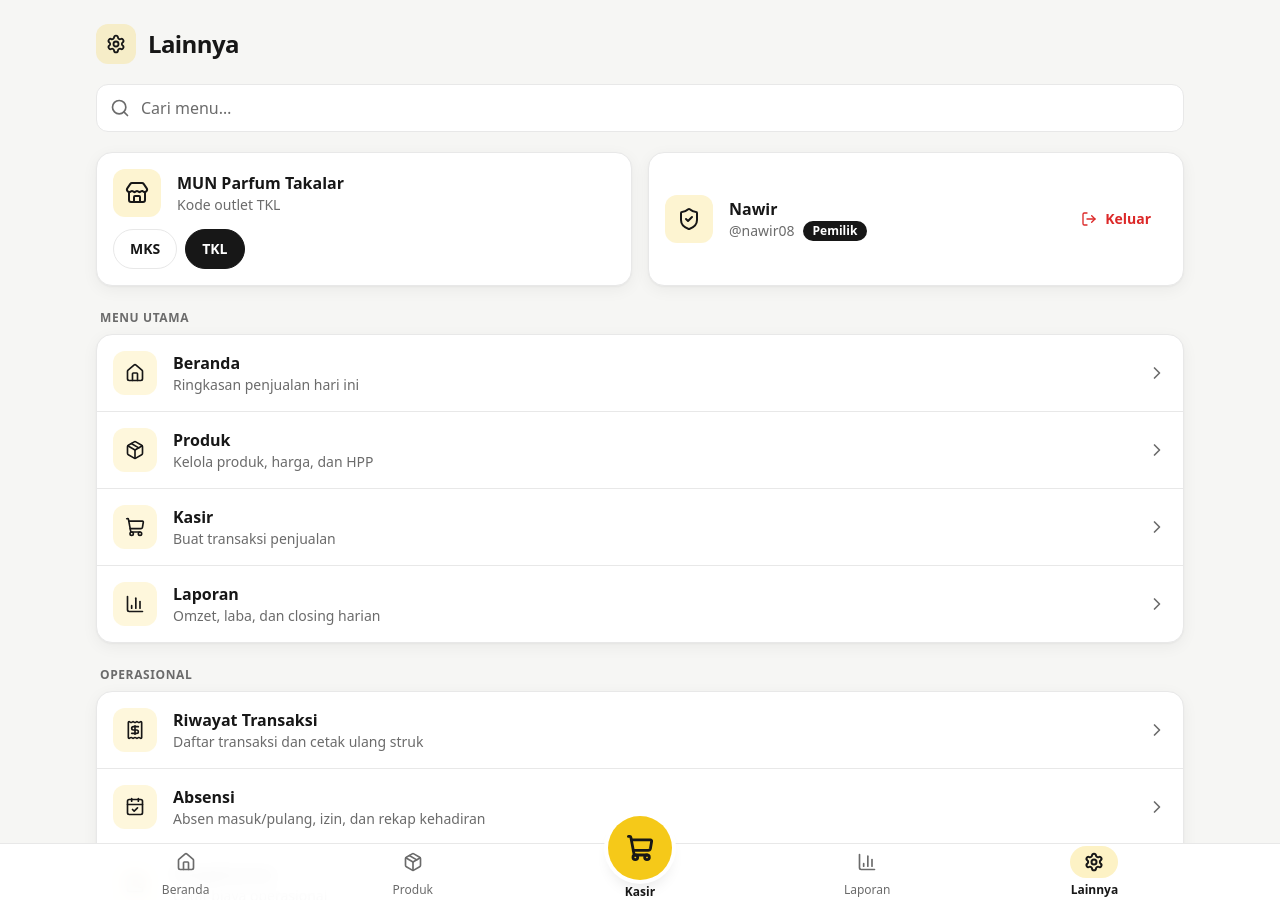
App shell › menu Lainnya dapat dicari
This screenshot has width=1280, height=900.
In the field labelled "Cari menu": (640, 108) [96,84,1184,132], type "pengel"
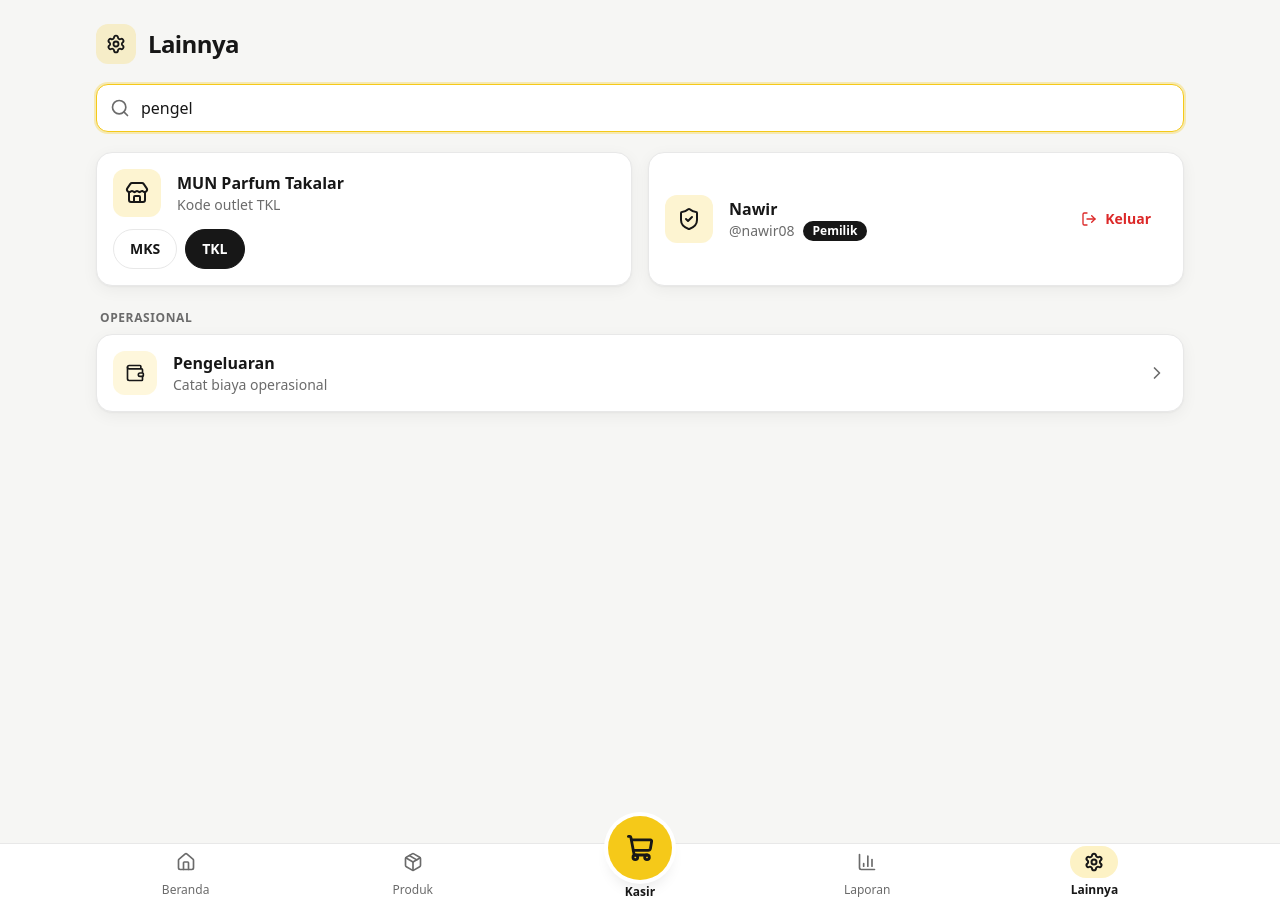
Expected: the text "Pengeluaran" is shown, [173,352,275,374]
Replace the text in the field named "Cari menu" with "zzz": (640, 108) [96,84,1184,132]
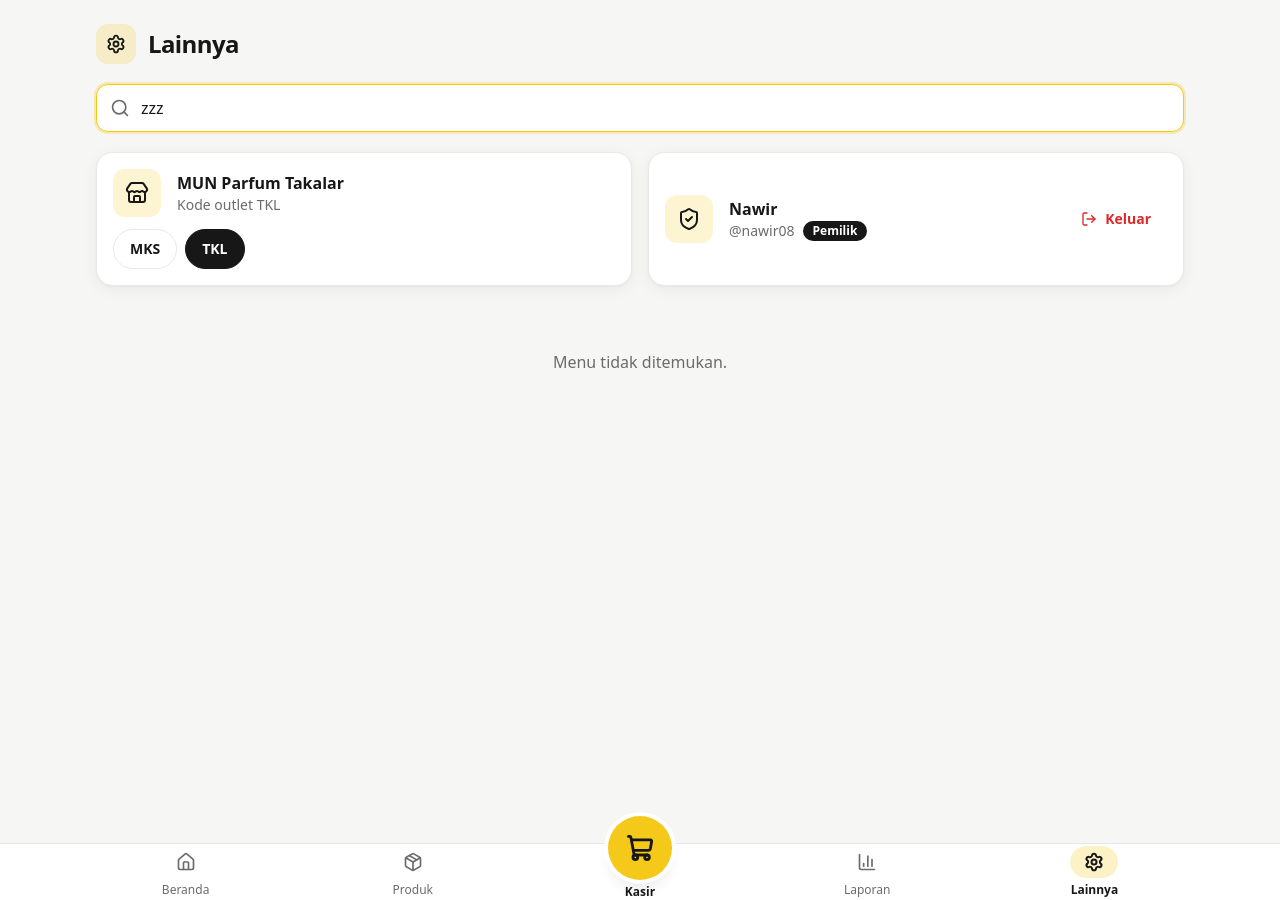
Expected: the text "Menu tidak ditemukan." is shown, [553,351,727,373]
